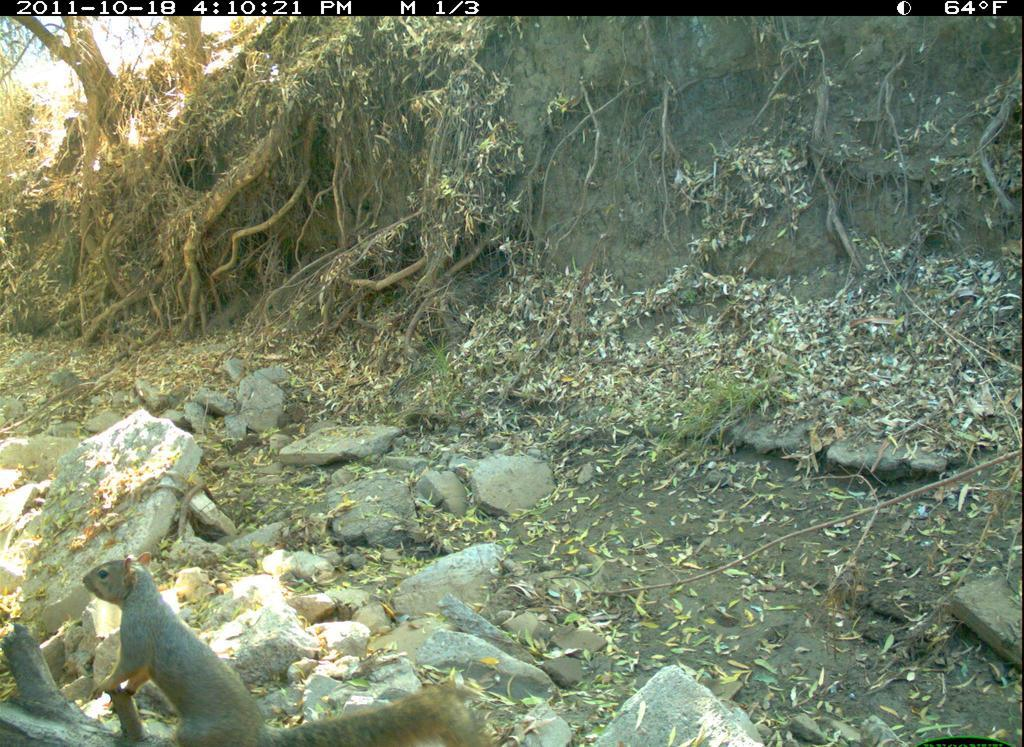squirrel: (66, 548, 501, 745)
